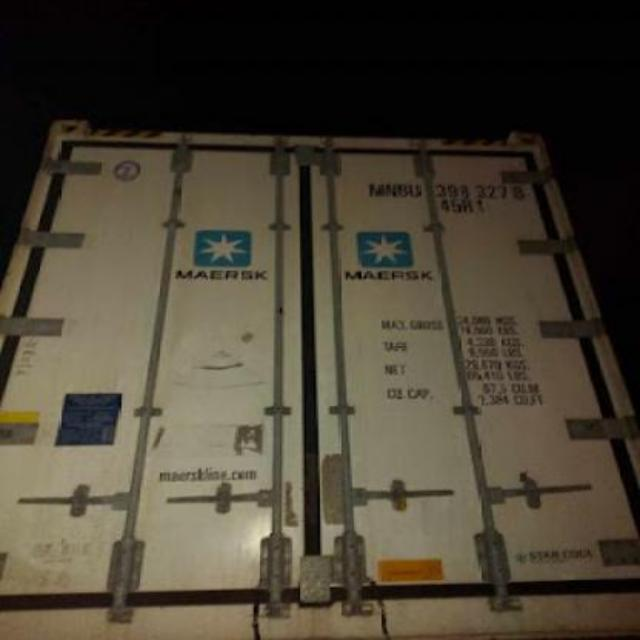2: (482, 182, 496, 202)
3: (430, 180, 448, 200), (474, 182, 486, 198)
7: (496, 182, 509, 200)
8: (510, 183, 530, 201), (456, 178, 469, 200)
9: (444, 178, 456, 200)
B: (396, 173, 409, 205)
M: (362, 176, 386, 198)
N: (384, 175, 398, 202)
U: (408, 178, 426, 206)
